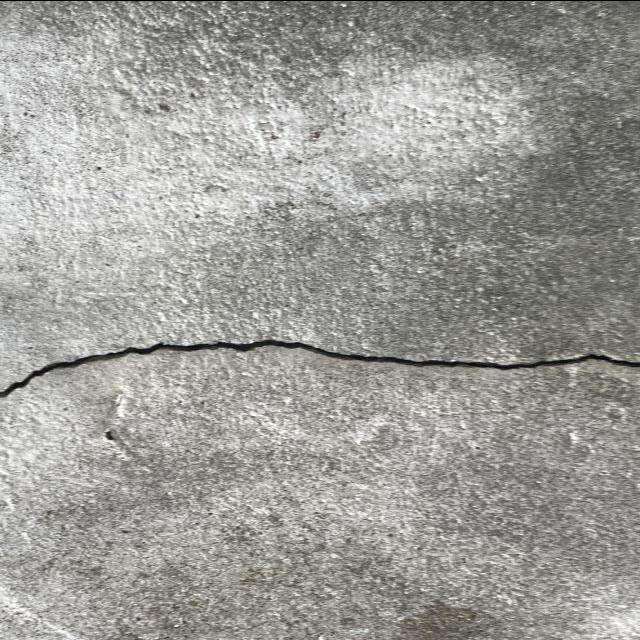SurfaceCrack: (0, 281, 639, 436)
